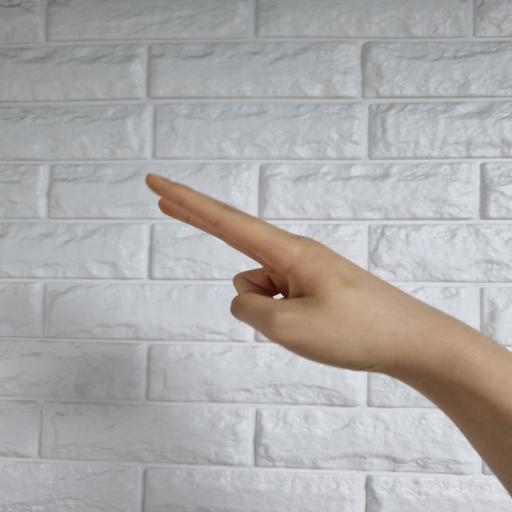Scissors: (144, 172, 512, 500)
